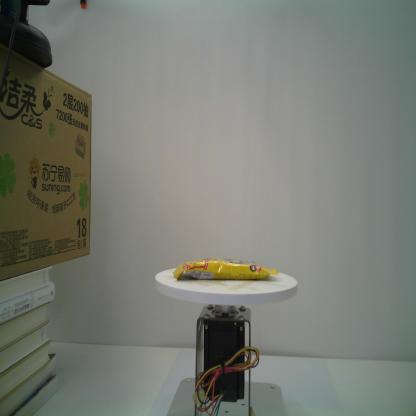Chocolate: (171, 258, 279, 284)
